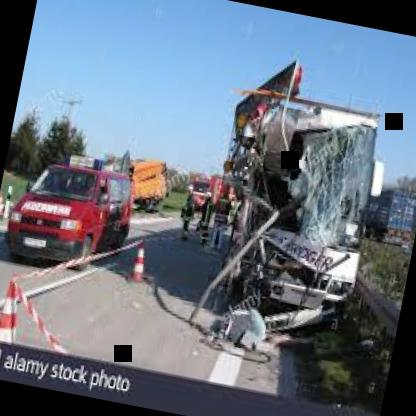accident: (156, 32, 416, 387)
